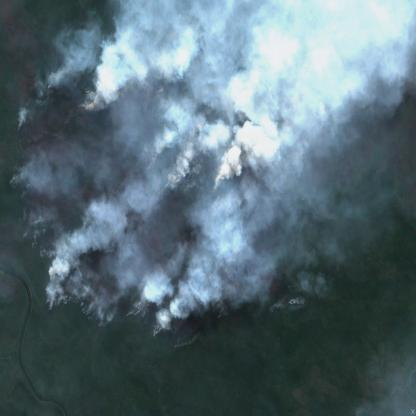fire: (9, 0, 342, 342)
